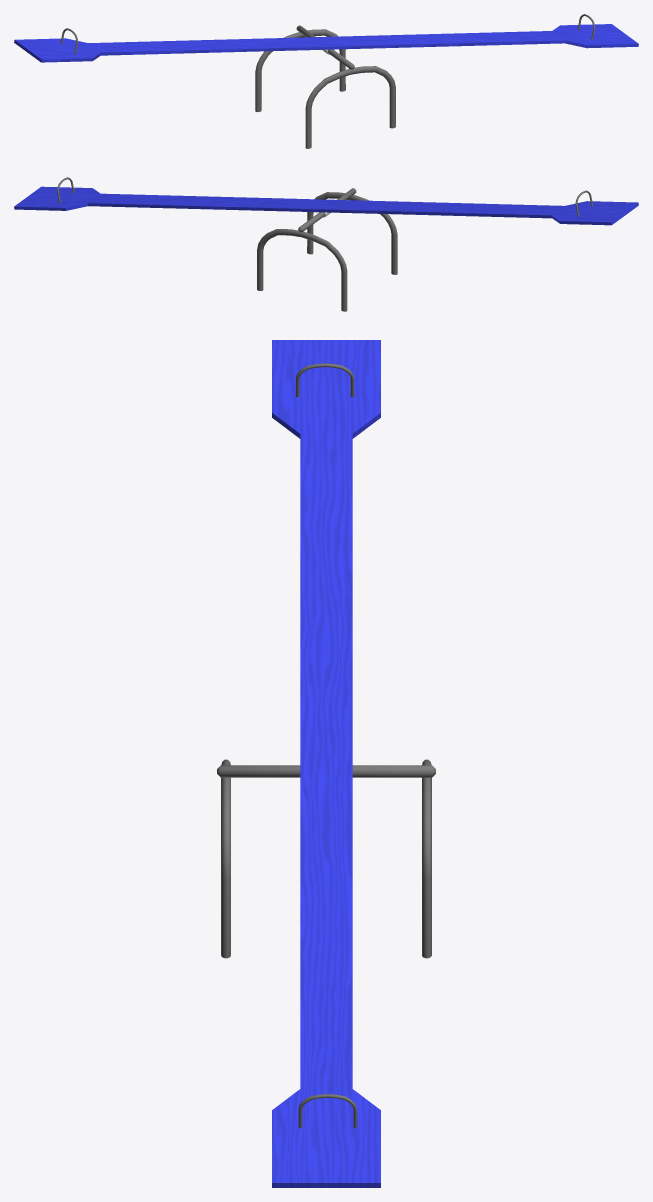
Rendered from Bapbenh.fbx.
The picture shows the model from 3 angles, top to bottom: view 1: azimuth 30°, elevation 25°; view 2: azimuth 150°, elevation 25°; view 3: azimuth 270°, elevation 25°; orthographic projection. The views are drawn at different scales.
Visible parts, largest first — view 1: Cube.008, Cylinder.010, Circle.003; view 2: Cube.008, Cylinder.010, Circle.003; view 3: Cube.008, Cylinder.010.
Boxes of the visible parts, left/top/right/bottom form: Cube.008: left=14, top=24, right=638, bottom=62; Cylinder.010: left=255, top=25, right=395, bottom=148; Circle.003: left=60, top=14, right=595, bottom=54; Cube.008: left=14, top=186, right=638, bottom=225; Cylinder.010: left=257, top=188, right=397, bottom=311; Circle.003: left=57, top=177, right=593, bottom=216; Cube.008: left=272, top=340, right=380, bottom=1187; Cylinder.010: left=217, top=759, right=435, bottom=958.
Bounding box in the file's own units: 377 × 91.26 × 59.9.
Materials: 3 (3 with a texture image).
